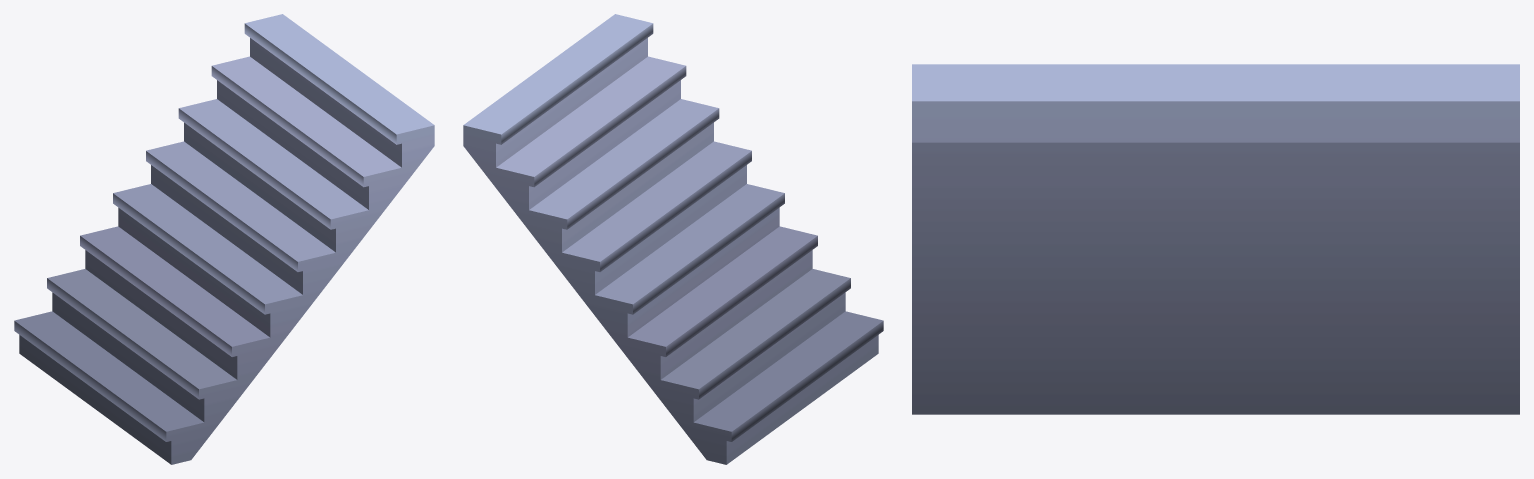
The model's file is stairs-wide-stone.glb.
3 views of the same model, side by side, from view 1: azimuth 30°, elevation 25°; view 2: azimuth 150°, elevation 25°; view 3: azimuth 270°, elevation 25° (orthographic). The views are drawn at different scales.
Parts seen in each view (by area): view 1: stairs-wide-stone; view 2: stairs-wide-stone; view 3: stairs-wide-stone.
Part boxes in pixels (bbox=[...]): stairs-wide-stone: bbox=[14, 14, 434, 464]; stairs-wide-stone: bbox=[463, 14, 883, 464]; stairs-wide-stone: bbox=[912, 64, 1519, 414].
Bounding box in the file's own units: 1.02 × 1 × 1.
1 material, 1 textured.
